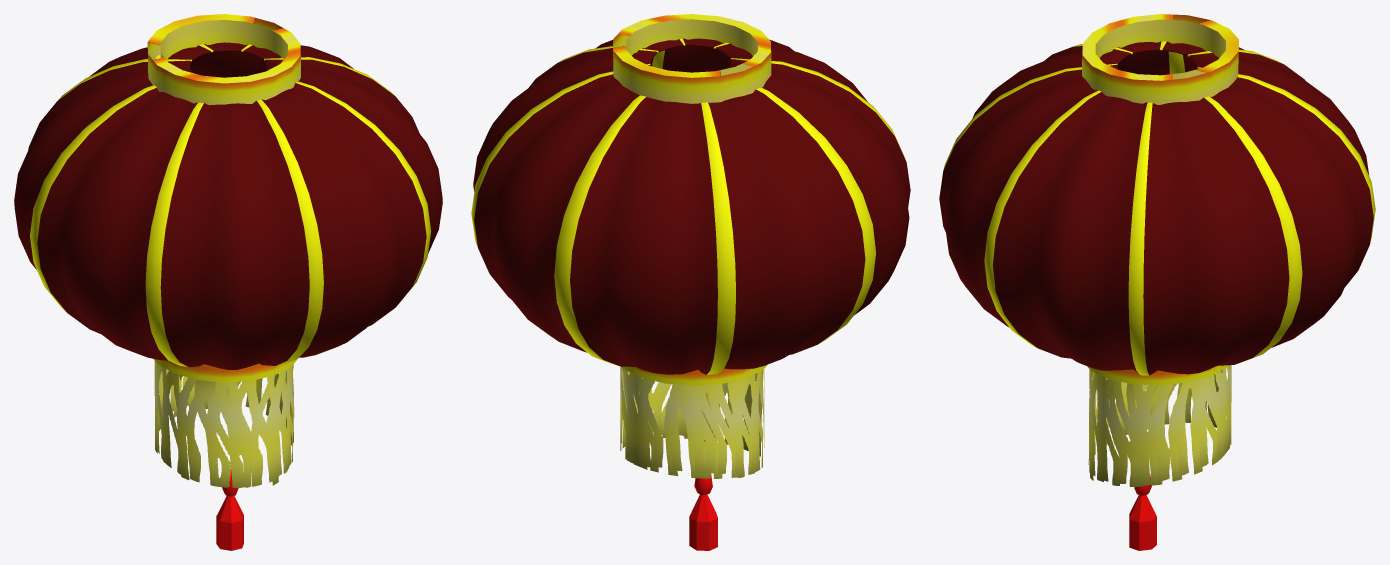
Rendered from lanterne_ronde_v1.FBX.
3 renders of one model, left to right at view 1: azimuth 30°, elevation 25°; view 2: azimuth 150°, elevation 25°; view 3: azimuth 270°, elevation 25°, orthographic. The views are drawn at different scales.
Visible parts, largest first — view 1: Sphere072, Object174, Cylinder028, Sphere073; view 2: Sphere072, Object174, Cylinder028, Sphere073; view 3: Sphere072, Object174, Cylinder028, Sphere073.
Part boxes in pixels (<box>): Sphere072: <box>14,42,442,369</box>; Object174: <box>154,361,294,487</box>; Cylinder028: <box>147,14,300,382</box>; Sphere073: <box>216,469,243,550</box>; Sphere072: <box>471,38,910,374</box>; Object174: <box>620,366,764,478</box>; Cylinder028: <box>613,14,771,385</box>; Sphere073: <box>689,473,717,550</box>; Sphere072: <box>939,41,1375,375</box>; Object174: <box>1088,365,1231,487</box>; Cylinder028: <box>1082,14,1238,385</box>; Sphere073: <box>1129,473,1156,550</box>.
Bounding box in the file's own units: 66.17 × 83.85 × 66.18.
5 materials, 2 textured.
